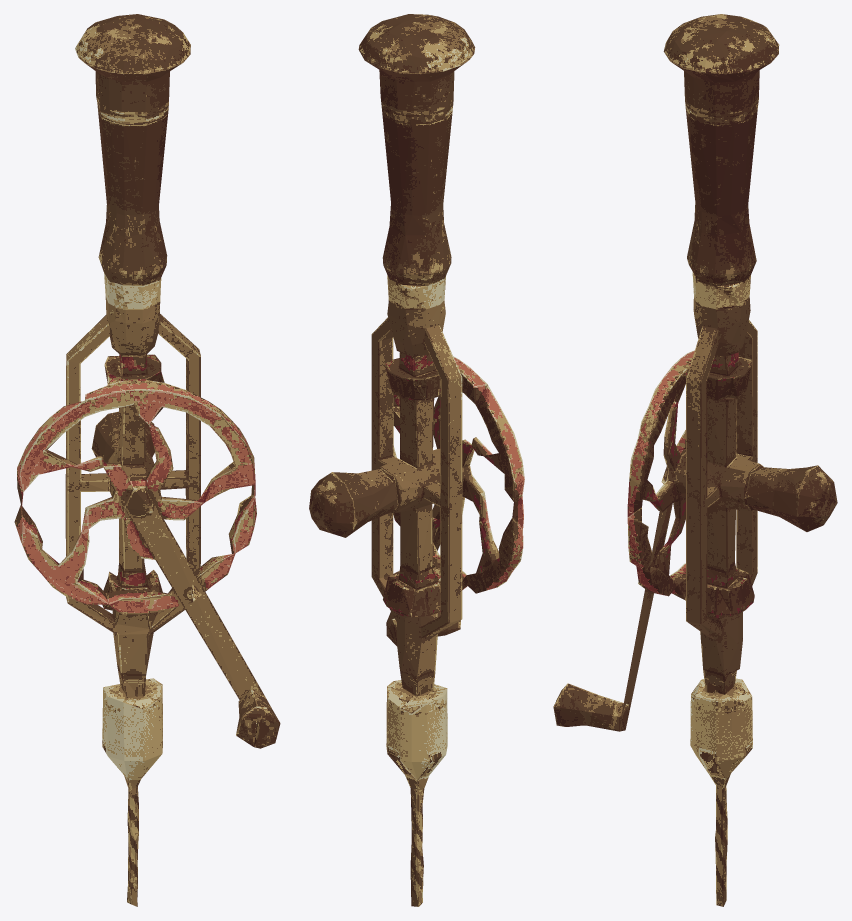
The model's file is drill.glb.
3 renders of one model, left to right at view 1: azimuth 30°, elevation 25°; view 2: azimuth 150°, elevation 25°; view 3: azimuth 270°, elevation 25°, orthographic.
Parts seen in each view (by area): view 1: model_m; view 2: model_m; view 3: model_m.
Boxes of the visible parts, <box> form: model_m: <box>14,14,280,906</box>; model_m: <box>309,14,524,906</box>; model_m: <box>553,14,837,906</box>.
Bounding box in the file's own units: 28.55 × 124 × 36.4.
Materials: 1 (1 with a texture image).
